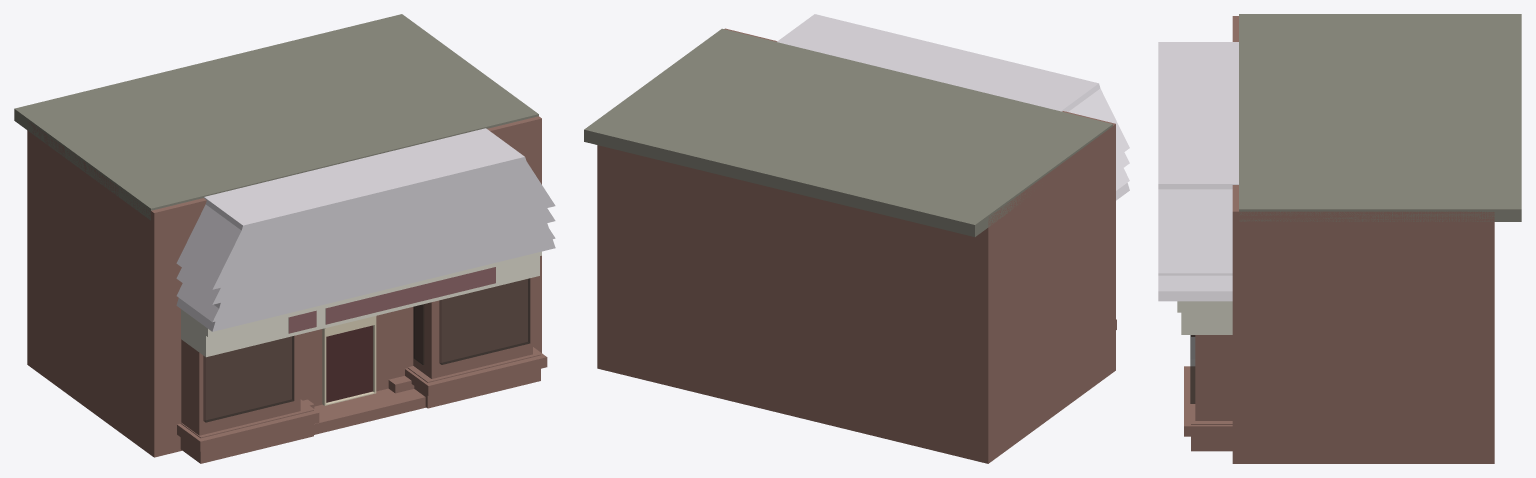
Rendered from FringeBenefit.fbx.
3 renders of one model, left to right at view 1: azimuth 30°, elevation 25°; view 2: azimuth 150°, elevation 25°; view 3: azimuth 270°, elevation 25°, orthographic. The views are drawn at different scales.
Visible parts, largest first — view 1: pCube10, pCube8, pCube9, pCube12, pCube25, pCube26, pCube3, pCube24, pCube32, pCube15, pCube16, pCube18 (+4 smaller); view 2: pCube9, pCube10, pCube8; view 3: pCube9, pCube10, pCube8, pCube12, pCube3, pCube16, pCube17, pCube2, pCube26.
Boxes of the visible parts, x1,y1,x2,y2 form: pCube10: (14, 14, 538, 220); pCube8: (176, 128, 555, 331); pCube9: (27, 116, 541, 457); pCube12: (181, 277, 532, 435); pCube25: (203, 336, 294, 422); pCube26: (439, 278, 530, 364); pCube3: (181, 256, 539, 357); pCube24: (326, 325, 372, 402); pCube32: (325, 267, 495, 324); pCube15: (180, 400, 313, 463); pCube16: (407, 349, 540, 408); pCube18: (177, 399, 319, 451); pCube9: (597, 28, 1115, 463); pCube10: (584, 28, 1112, 236); pCube8: (777, 14, 1129, 200); pCube9: (1232, 16, 1494, 463); pCube10: (1239, 14, 1521, 221); pCube8: (1158, 42, 1238, 301); pCube12: (1195, 335, 1232, 420); pCube3: (1181, 312, 1232, 334); pCube16: (1191, 367, 1232, 451); pCube17: (1184, 366, 1232, 436); pCube2: (1177, 301, 1232, 312); pCube26: (1190, 335, 1195, 403).
Size of the model in its own units: 24.32 by 14.85 by 19.1.
